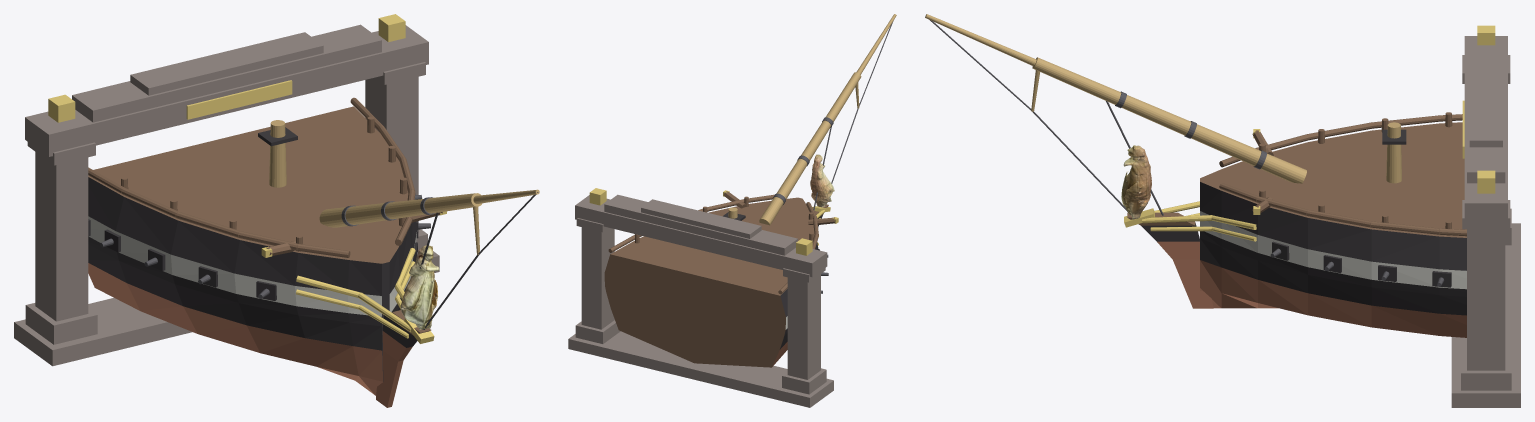
File: minerva.glb
3 renders of one model, left to right at view 1: azimuth 30°, elevation 25°; view 2: azimuth 150°, elevation 25°; view 3: azimuth 270°, elevation 25°, orthographic. The views are drawn at different scales.
Visible parts, largest first — view 1: minerva_ParentBow, minerva_Figurehead; view 2: minerva_ParentBow, minerva_Figurehead; view 3: minerva_ParentBow, minerva_Figurehead.
Part boxes in pixels (box(x1,y1,x2,y2)): minerva_ParentBow: box(14, 14, 539, 407); minerva_Figurehead: box(400, 245, 439, 329); minerva_ParentBow: box(568, 14, 896, 407); minerva_Figurehead: box(810, 154, 834, 207); minerva_ParentBow: box(925, 14, 1520, 407); minerva_Figurehead: box(1121, 145, 1151, 219).
Size of the model in its own units: 16.31 by 13.78 by 24.11.
2 materials, 2 textured.
